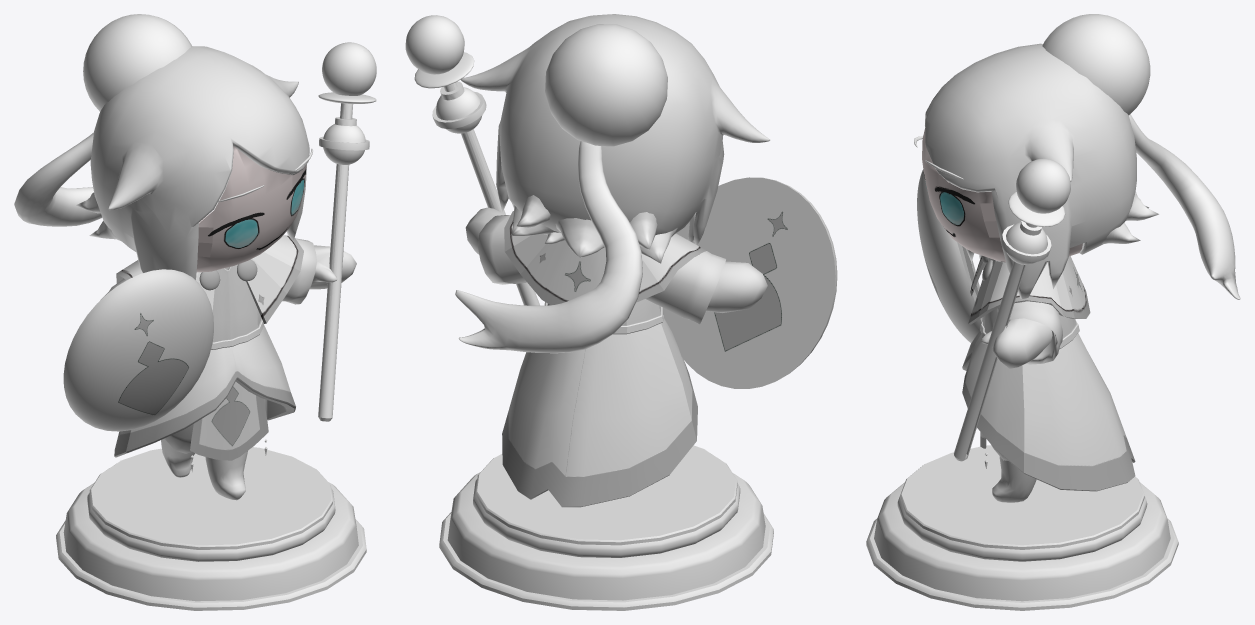
Rendered from WhitePawn.fbx.
3 views of the same model, side by side, from view 1: azimuth 30°, elevation 25°; view 2: azimuth 150°, elevation 25°; view 3: azimuth 270°, elevation 25° (orthographic). The views are drawn at different scales.
Visible parts, largest first — view 1: polySurface72, polySurface73, polySurface55, polySurface61, polySurface54, polySurface74, polySurface53, polySurface71, polySurface64, polySurface62, polySurface67, polySurface68; view 2: polySurface72, polySurface61, polySurface73, polySurface55, polySurface71, polySurface53, polySurface54, polySurface62, polySurface57, polySurface65, polySurface69; view 3: polySurface72, polySurface73, polySurface61, polySurface54, polySurface53, polySurface71, polySurface55, polySurface74, polySurface62.
Boxes of the visible parts, bbox=[...] form: polySurface72: bbox=[56, 447, 366, 610]; polySurface73: bbox=[90, 46, 356, 500]; polySurface55: bbox=[63, 269, 213, 431]; polySurface61: bbox=[101, 238, 316, 457]; polySurface54: bbox=[318, 42, 376, 421]; polySurface74: bbox=[196, 146, 306, 272]; polySurface53: bbox=[83, 14, 191, 111]; polySurface71: bbox=[14, 132, 102, 226]; polySurface64: bbox=[190, 381, 268, 460]; polySurface62: bbox=[116, 235, 303, 323]; polySurface67: bbox=[199, 259, 257, 290]; polySurface68: bbox=[164, 399, 267, 453]; polySurface72: bbox=[439, 445, 773, 610]; polySurface61: bbox=[478, 215, 725, 507]; polySurface73: bbox=[460, 14, 770, 312]; polySurface55: bbox=[662, 177, 837, 388]; polySurface71: bbox=[455, 141, 642, 353]; polySurface53: bbox=[545, 24, 667, 146]; polySurface54: bbox=[405, 15, 539, 305]; polySurface62: bbox=[504, 211, 706, 305]; polySurface57: bbox=[555, 218, 604, 257]; polySurface65: bbox=[517, 195, 550, 227]; polySurface69: bbox=[630, 212, 657, 249]; polySurface72: bbox=[866, 445, 1178, 610]; polySurface73: bbox=[925, 43, 1136, 502]; polySurface61: bbox=[962, 255, 1135, 491]; polySurface54: bbox=[954, 158, 1070, 461]; polySurface53: bbox=[1042, 14, 1150, 115]; polySurface71: bbox=[1129, 114, 1240, 299]; polySurface55: bbox=[917, 169, 982, 342]; polySurface74: bbox=[922, 128, 1082, 261]; polySurface62: bbox=[968, 256, 1090, 324].
Bounding box in the file's own units: 78.62 × 115 × 72.55.
Materials: 11 (8 with a texture image).
